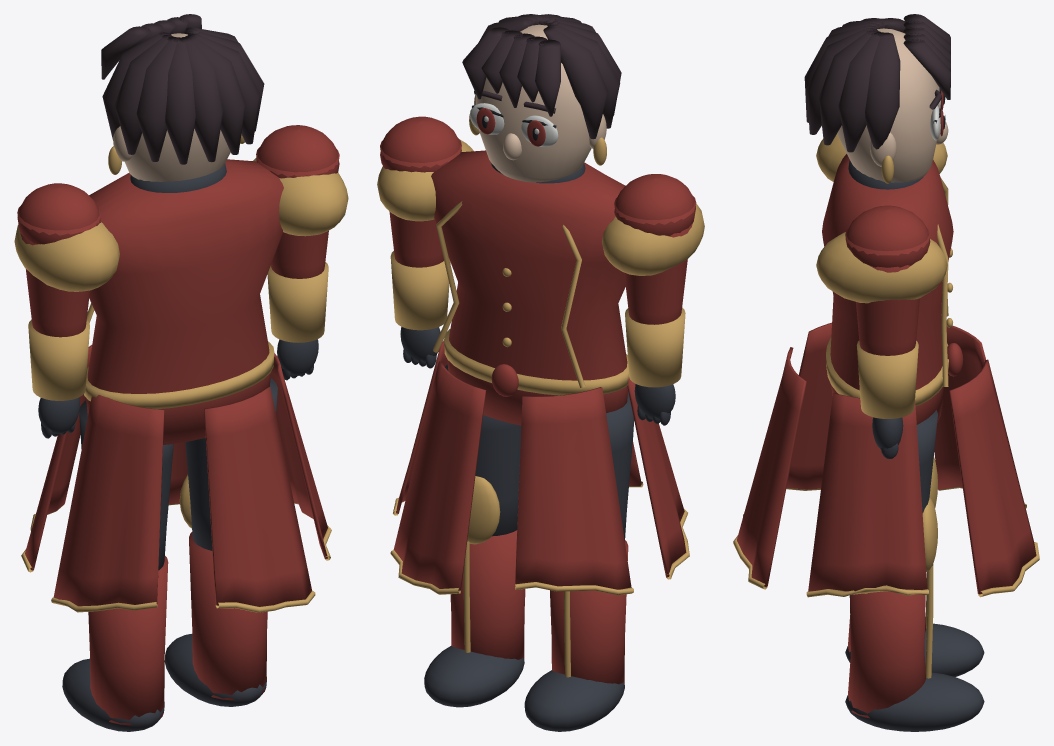
Rendered from hero-ember.glb.
3 views of the same model, side by side, from view 1: azimuth 30°, elevation 25°; view 2: azimuth 150°, elevation 25°; view 3: azimuth 270°, elevation 25° (orthographic).
Visible parts, largest first — view 1: torso_Painted character, head_Painted character, legR_Painted character, legL_Painted character, armL_Painted character, armR_Painted character; view 2: torso_Painted character, head_Painted character, legR_Painted character, legL_Painted character, armL_Painted character, armR_Painted character; view 3: torso_Painted character, head_Painted character, legR_Painted character, armR_Painted character, legL_Painted character.
Boxes of the visible parts, <box> form: torso_Painted character: <box>14,157,348,612</box>; head_Painted character: <box>101,14,264,181</box>; legR_Painted character: <box>164,378,277,706</box>; legL_Painted character: <box>62,400,173,731</box>; armL_Painted character: <box>17,183,100,438</box>; armR_Painted character: <box>256,125,339,380</box>; torso_Painted character: <box>377,139,704,595</box>; head_Painted character: <box>462,14,621,182</box>; legR_Painted character: <box>424,364,525,707</box>; legL_Painted character: <box>524,392,634,731</box>; armL_Painted character: <box>614,174,696,425</box>; armR_Painted character: <box>380,116,461,368</box>; torso_Painted character: <box>733,134,1039,597</box>; head_Painted character: <box>804,14,950,183</box>; legR_Painted character: <box>845,410,984,731</box>; armR_Painted character: <box>845,205,930,458</box>; legL_Painted character: <box>845,456,984,676</box>.
Bounding box in the file's own units: 0.91 × 1.92 × 0.7913.
